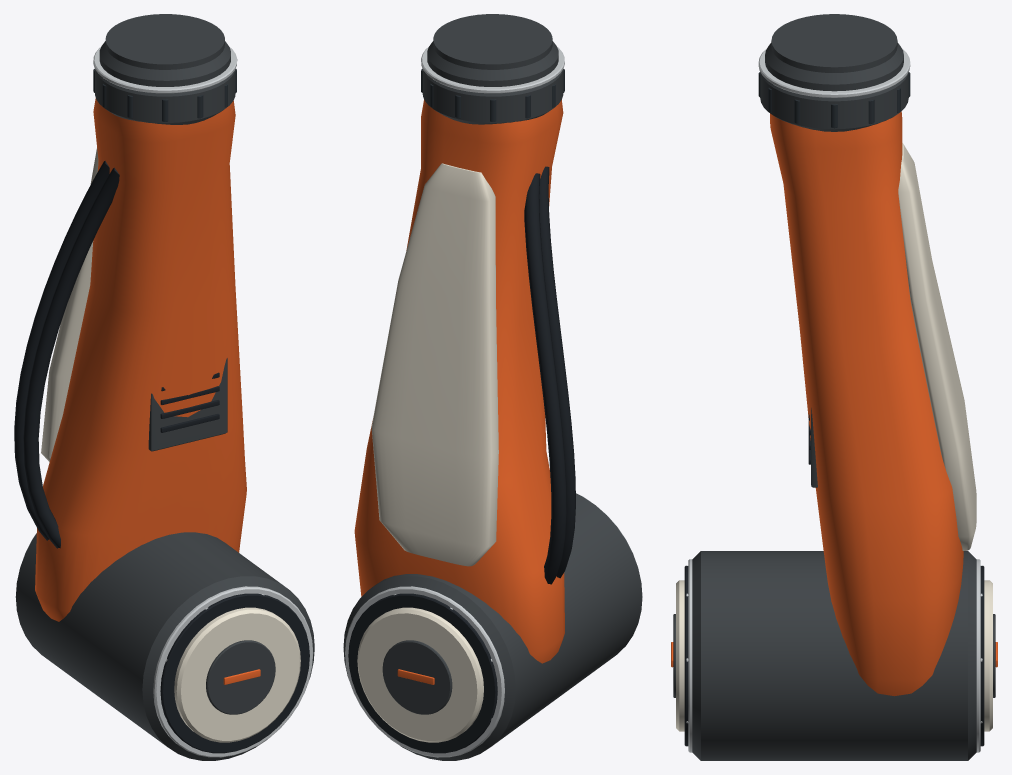
3 views of the same model, side by side, from view 1: azimuth 30°, elevation 25°; view 2: azimuth 150°, elevation 25°; view 3: azimuth 270°, elevation 25° (orthographic). The views are drawn at different scales.
Parts seen in each view (by area): view 1: J3; view 2: J3; view 3: J3.
Boxes of the visible parts, <box> form: J3: <box>14,14,314,760</box>; J3: <box>343,14,642,760</box>; J3: <box>671,14,997,760</box>.
Bounding box in the file's own units: 0.1581 × 0.485 × 0.2022.
